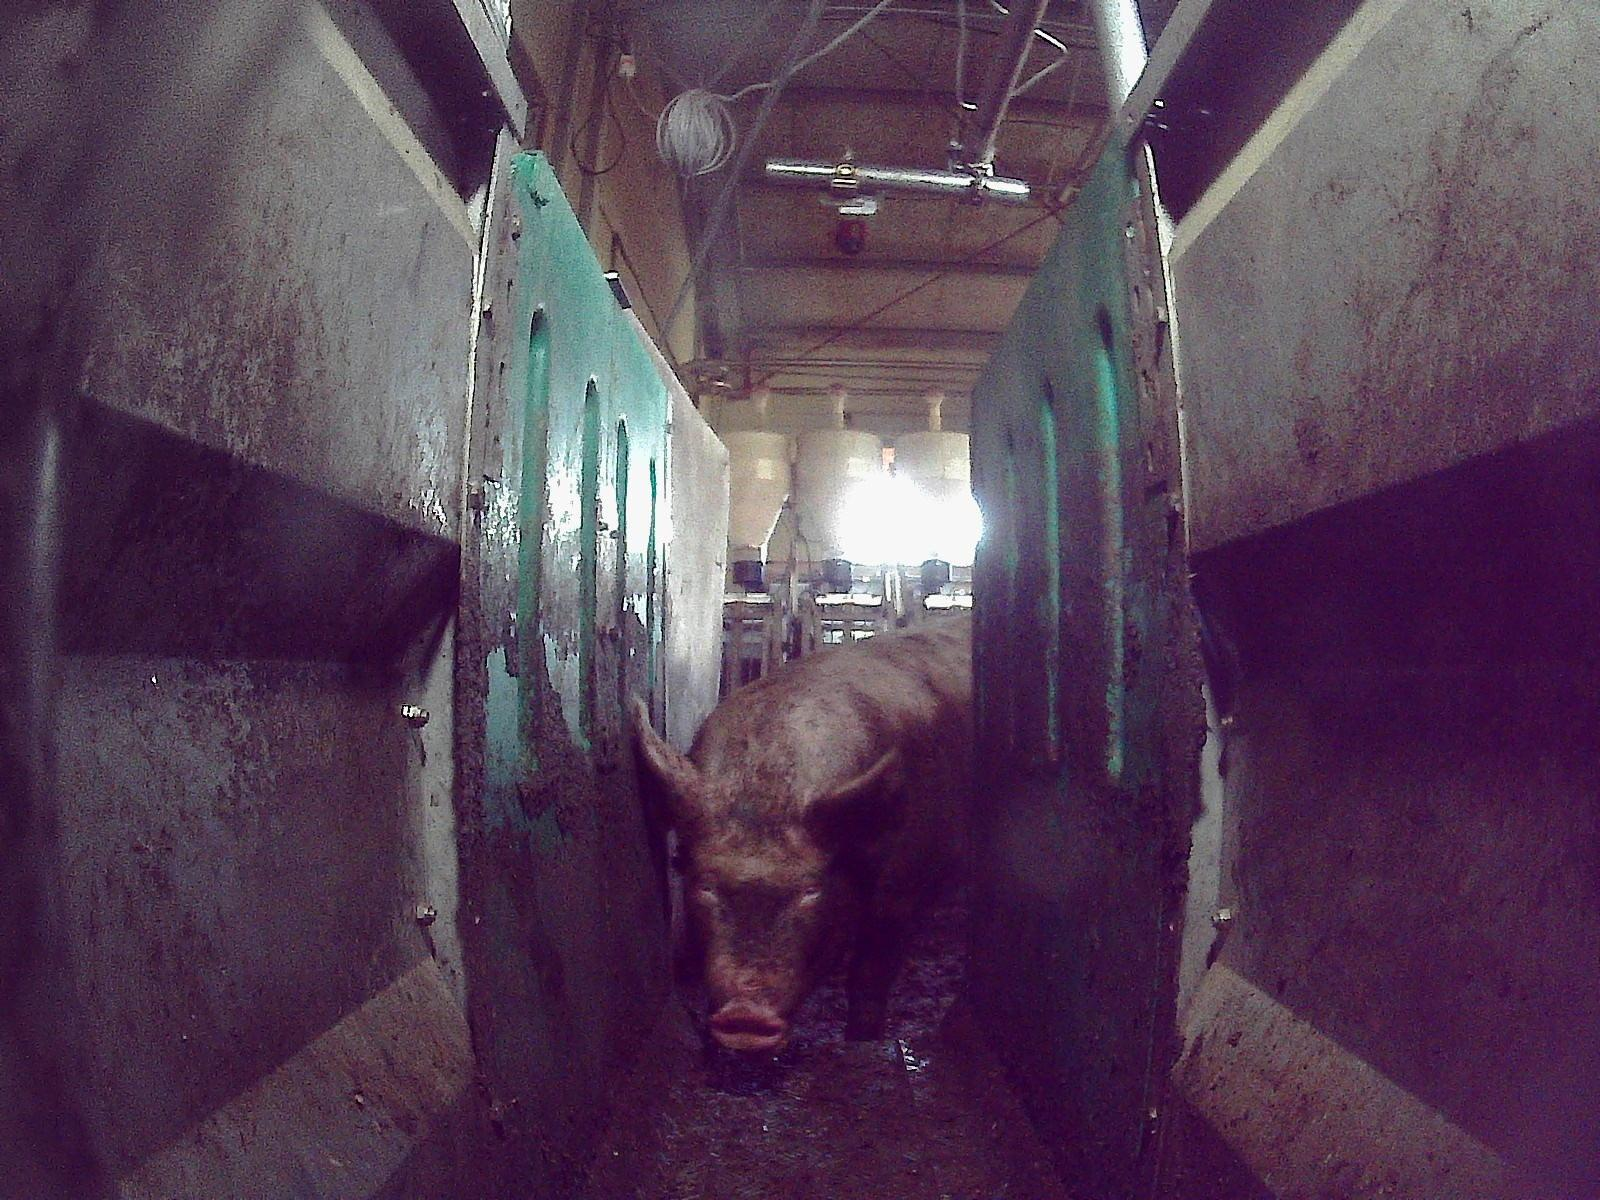Face: (684, 774, 846, 1046)
